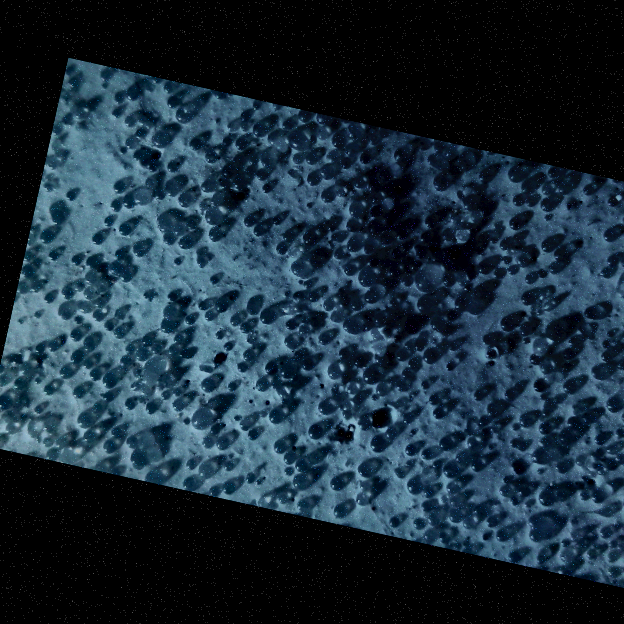GrassBeadSeg: (386, 36, 409, 64), (421, 492, 440, 524), (359, 234, 381, 258), (250, 53, 270, 79), (299, 224, 318, 251), (36, 280, 55, 307), (119, 243, 138, 269), (514, 83, 533, 108), (277, 373, 295, 399), (302, 304, 322, 327), (470, 581, 487, 608), (451, 183, 470, 207), (184, 15, 203, 39), (14, 479, 32, 504), (309, 381, 328, 404), (226, 323, 244, 347), (226, 271, 244, 295), (256, 476, 273, 501), (354, 467, 371, 492), (106, 440, 124, 463), (129, 270, 147, 293), (93, 501, 110, 525), (408, 575, 425, 599), (319, 176, 335, 201), (93, 324, 111, 346), (163, 248, 181, 270), (263, 521, 280, 544), (185, 491, 202, 514), (527, 540, 544, 563), (51, 335, 68, 358), (3, 441, 20, 464), (359, 185, 377, 206), (357, 77, 374, 99), (316, 479, 332, 502), (324, 125, 340, 148), (384, 317, 399, 341), (311, 439, 328, 460), (422, 445, 439, 466), (293, 254, 310, 275), (345, 515, 361, 537), (452, 604, 470, 623), (352, 116, 369, 136), (550, 24, 566, 45), (369, 93, 385, 114), (319, 562, 335, 583), (125, 465, 141, 486), (356, 352, 372, 373), (88, 403, 104, 424), (278, 593, 293, 615), (472, 367, 486, 390), (473, 343, 487, 366), (482, 167, 496, 190), (521, 178, 535, 201), (419, 603, 435, 623), (447, 213, 463, 233), (384, 596, 400, 616), (568, 384, 584, 404), (98, 543, 114, 563), (500, 573, 515, 594), (65, 584, 79, 606), (21, 354, 37, 373), (290, 358, 306, 377), (50, 198, 66, 217), (151, 205, 167, 224), (128, 391, 144, 410), (294, 28, 310, 47), (280, 285, 296, 304), (123, 333, 138, 353), (287, 553, 302, 573), (375, 427, 390, 447), (398, 530, 413, 550), (143, 116, 158, 136), (430, 34, 443, 57), (253, 335, 270, 352), (53, 117, 66, 139), (90, 76, 103, 98), (215, 29, 228, 51), (163, 477, 178, 496), (196, 454, 211, 473), (177, 94, 192, 113), (197, 172, 212, 191), (322, 538, 337, 557), (178, 470, 193, 489), (490, 421, 504, 441), (606, 542, 620, 562), (218, 531, 231, 552), (324, 154, 340, 171), (130, 432, 146, 449), (209, 411, 224, 429), (555, 476, 570, 494), (313, 599, 328, 617), (24, 217, 39, 235), (497, 159, 512, 177), (192, 574, 207, 592), (594, 73, 609, 91), (160, 388, 175, 406), (484, 81, 498, 100), (112, 604, 126, 623), (447, 487, 461, 506), (97, 566, 111, 585), (370, 399, 384, 418), (481, 560, 495, 579), (306, 148, 320, 167), (15, 2, 29, 21), (175, 31, 187, 53), (154, 52, 166, 74), (436, 126, 449, 146), (515, 474, 528, 494), (132, 508, 147, 525), (127, 577, 142, 594), (532, 194, 547, 211), (247, 382, 262, 399), (277, 209, 292, 226), (182, 130, 197, 147), (553, 369, 568, 386), (271, 350, 286, 367), (110, 397, 124, 415), (328, 336, 342, 354), (601, 274, 615, 292), (172, 445, 186, 463), (121, 305, 135, 323), (328, 84, 342, 102), (47, 485, 61, 503), (148, 252, 162, 270), (73, 367, 87, 385), (551, 323, 565, 341), (305, 274, 319, 292), (235, 21, 249, 39), (530, 297, 544, 315), (541, 425, 554, 444), (550, 448, 563, 467), (465, 455, 478, 474), (228, 203, 241, 222), (346, 276, 361, 292), (392, 0, 404, 20), (216, 392, 230, 409), (85, 379, 99, 396), (67, 89, 81, 106), (489, 236, 503, 253), (68, 268, 82, 285), (149, 359, 162, 377), (293, 403, 306, 421), (203, 536, 216, 554), (275, 452, 288, 470), (550, 347, 563, 365), (241, 345, 255, 361), (153, 545, 167, 561), (305, 64, 319, 80), (554, 415, 567, 432), (177, 370, 190, 387), (540, 503, 553, 520), (338, 382, 351, 399), (548, 70, 561, 87), (500, 125, 513, 142), (174, 564, 187, 581), (544, 174, 557, 191), (179, 282, 192, 299), (337, 530, 348, 550), (445, 64, 456, 84), (469, 94, 480, 114), (467, 140, 478, 160), (417, 43, 428, 63), (516, 396, 528, 414), (132, 298, 146, 313), (280, 183, 294, 198), (182, 521, 196, 536), (613, 360, 624, 379), (533, 235, 544, 254), (518, 155, 529, 174), (450, 111, 461, 130), (403, 344, 414, 363), (539, 378, 552, 394), (405, 21, 418, 37), (463, 406, 476, 422), (272, 258, 285, 274), (24, 572, 37, 588), (19, 596, 32, 612), (543, 102, 556, 118), (35, 537, 47, 554), (472, 502, 484, 519), (394, 388, 406, 405), (386, 213, 398, 230), (202, 558, 214, 575), (552, 606, 564, 623), (555, 261, 566, 279), (390, 68, 401, 86), (377, 63, 388, 81), (329, 44, 340, 62), (344, 36, 355, 54), (225, 78, 236, 96), (438, 339, 449, 357), (455, 352, 466, 370), (475, 236, 486, 254), (414, 336, 425, 354), (358, 397, 369, 415), (267, 393, 278, 411), (197, 209, 208, 227), (213, 235, 224, 253), (135, 146, 146, 164), (321, 220, 332, 238), (413, 537, 426, 552), (107, 419, 120, 434), (382, 192, 395, 207), (301, 202, 314, 217), (374, 0, 387, 15), (168, 408, 180, 424), (461, 386, 473, 402), (539, 456, 551, 472), (444, 327, 456, 343), (607, 32, 619, 48), (410, 193, 422, 209), (613, 332, 623, 351), (166, 145, 176, 164), (493, 503, 504, 520), (562, 339, 573, 356), (571, 356, 584, 370), (503, 440, 516, 454), (266, 220, 278, 235), (514, 27, 526, 42), (39, 355, 51, 370), (307, 353, 319, 368), (71, 117, 83, 132), (247, 362, 259, 377), (531, 277, 543, 292), (24, 326, 34, 344), (1, 310, 11, 328), (264, 569, 274, 587), (360, 54, 370, 72), (358, 28, 368, 46), (225, 128, 235, 146), (257, 119, 267, 137), (401, 314, 411, 332), (430, 321, 440, 339), (515, 263, 525, 281), (250, 457, 260, 475), (133, 126, 143, 144), (247, 251, 257, 269), (530, 470, 541, 486), (237, 430, 248, 446), (545, 204, 555, 221), (77, 293, 87, 310), (106, 276, 116, 293), (60, 396, 70, 413), (73, 435, 83, 452), (119, 501, 129, 518), (1, 504, 11, 521), (141, 559, 151, 576), (178, 540, 188, 557), (195, 601, 205, 618), (180, 599, 190, 616), (207, 587, 217, 604), (214, 478, 224, 495), (43, 576, 55, 590), (499, 553, 511, 567), (472, 207, 484, 221), (425, 575, 436, 590), (574, 441, 585, 456), (398, 608, 409, 623), (614, 108, 624, 124), (230, 478, 240, 494), (592, 303, 603, 317), (391, 566, 402, 580), (563, 63, 574, 77), (144, 164, 155, 178), (602, 358, 613, 372), (564, 39, 575, 53), (520, 133, 531, 147), (171, 55, 180, 72), (163, 570, 172, 587), (230, 592, 239, 609), (183, 58, 192, 75), (160, 32, 169, 49), (144, 23, 153, 40), (156, 173, 165, 189), (588, 371, 599, 384), (173, 168, 184, 181), (480, 411, 491, 424), (78, 53, 89, 66), (73, 12, 84, 25), (491, 476, 502, 489), (63, 489, 73, 503), (463, 478, 473, 492), (458, 69, 468, 83), (384, 500, 394, 514), (85, 121, 95, 135), (504, 421, 514, 435), (536, 121, 546, 135), (72, 65, 82, 79), (452, 470, 462, 484), (56, 28, 66, 42), (33, 111, 43, 125), (370, 575, 379, 590), (259, 146, 268, 161), (280, 150, 289, 165), (309, 184, 318, 199), (310, 126, 319, 141), (294, 83, 303, 98), (334, 203, 343, 218), (353, 222, 362, 237), (323, 283, 332, 298), (589, 206, 599, 219), (230, 375, 240, 388), (71, 233, 81, 246), (139, 408, 149, 421), (557, 302, 567, 315), (529, 392, 538, 406), (597, 583, 606, 597), (457, 44, 466, 58), (447, 24, 456, 38), (523, 7, 532, 21), (505, 48, 514, 62), (347, 61, 356, 75), (374, 26, 383, 40), (326, 18, 335, 32), (267, 6, 276, 20), (255, 11, 264, 25), (270, 27, 279, 41), (423, 184, 432, 198), (341, 313, 350, 327), (334, 285, 343, 299), (253, 218, 262, 232), (582, 9, 591, 23), (412, 128, 422, 140), (571, 303, 581, 315), (125, 523, 135, 535), (440, 510, 448, 525), (352, 332, 360, 347), (364, 327, 372, 342), (442, 285, 451, 298), (457, 264, 466, 277), (74, 251, 83, 264), (265, 550, 274, 563), (523, 521, 532, 534), (516, 502, 525, 515), (615, 515, 624, 528), (523, 313, 532, 326), (499, 221, 508, 234), (475, 0, 484, 13), (420, 109, 429, 122), (317, 86, 326, 99), (405, 443, 414, 456), (98, 29, 106, 43), (14, 222, 22, 236), (105, 259, 113, 273), (0, 406, 8, 420), (14, 395, 22, 409), (32, 390, 40, 404), (92, 455, 100, 469), (337, 553, 345, 567), (377, 510, 385, 524), (412, 514, 420, 528), (597, 488, 605, 502), (571, 511, 579, 525), (599, 513, 607, 527), (158, 6, 166, 20), (427, 367, 435, 381), (179, 305, 187, 319), (479, 270, 488, 282), (542, 361, 551, 373), (467, 176, 476, 188), (616, 314, 624, 327), (97, 207, 105, 220), (42, 191, 50, 204), (9, 250, 17, 263), (107, 298, 115, 311), (45, 383, 53, 396), (49, 410, 57, 423), (336, 597, 344, 610), (565, 566, 573, 579), (527, 571, 535, 584), (562, 591, 570, 604), (549, 587, 557, 600), (550, 232, 558, 245), (485, 221, 493, 234), (540, 87, 548, 100), (452, 136, 460, 149), (346, 15, 354, 28), (135, 212, 143, 225), (478, 325, 486, 338), (417, 382, 425, 395), (400, 410, 408, 423), (214, 305, 222, 318), (509, 174, 517, 187), (420, 0, 430, 10), (138, 492, 147, 503), (141, 5, 148, 19), (123, 20, 130, 34), (91, 140, 98, 154), (40, 245, 47, 259), (18, 271, 25, 285), (14, 353, 21, 367), (577, 545, 585, 557), (7, 110, 15, 122), (12, 43, 20, 55), (51, 77, 59, 89), (410, 58, 418, 70), (419, 88, 427, 100), (49, 233, 56, 246), (57, 276, 64, 289), (1, 377, 8, 390), (187, 178, 194, 191), (5, 28, 13, 39), (432, 90, 440, 101), (254, 320, 262, 331), (59, 568, 66, 580), (9, 562, 16, 574), (598, 250, 605, 262), (183, 155, 190, 167), (314, 108, 321, 120), (345, 109, 352, 121), (362, 301, 369, 313), (296, 447, 303, 459), (244, 317, 251, 329), (21, 556, 28, 567), (11, 576, 18, 587), (348, 163, 355, 174), (343, 180, 350, 191), (358, 261, 365, 272), (362, 284, 369, 295), (353, 373, 360, 384), (149, 273, 157, 282), (73, 569, 79, 581), (161, 419, 167, 431), (116, 376, 122, 388), (362, 580, 369, 590), (66, 558, 72, 569), (30, 555, 36, 566), (92, 605, 98, 616), (243, 140, 249, 151), (399, 174, 405, 185), (213, 338, 219, 349), (168, 428, 174, 439), (192, 544, 198, 554), (205, 496, 211, 506), (230, 502, 236, 512), (239, 518, 245, 528), (275, 412, 281, 422), (233, 452, 240, 460), (584, 502, 590, 511), (608, 479, 614, 488), (589, 454, 595, 463), (494, 405, 500, 414), (597, 402, 603, 411), (435, 60, 441, 69), (461, 167, 467, 176), (438, 426, 444, 435), (457, 412, 463, 421), (396, 490, 401, 500), (541, 70, 546, 80), (537, 0, 542, 10), (497, 25, 502, 35), (369, 427, 374, 437), (360, 438, 365, 448), (607, 153, 612, 163), (616, 186, 621, 196), (615, 60, 620, 70), (611, 417, 617, 425), (441, 9, 447, 17), (224, 116, 230, 124), (373, 476, 378, 485), (356, 449, 361, 458), (560, 396, 565, 405), (553, 121, 558, 130), (534, 74, 539, 83), (583, 28, 588, 37), (541, 18, 546, 27), (504, 37, 509, 46), (353, 411, 358, 420), (614, 168, 619, 177), (614, 203, 619, 212), (611, 96, 616, 105), (19, 67, 24, 75), (72, 171, 77, 179), (64, 456, 69, 464), (56, 450, 61, 458), (70, 466, 75, 474), (111, 470, 116, 478), (116, 525, 121, 533), (448, 45, 453, 53), (284, 14, 289, 22), (224, 64, 229, 72), (240, 74, 245, 82), (200, 132, 205, 140), (200, 110, 205, 118), (221, 104, 226, 112), (155, 77, 160, 85), (144, 201, 149, 209), (143, 226, 148, 234), (214, 215, 219, 223), (220, 208, 225, 216), (183, 146, 188, 154), (211, 153, 216, 161), (249, 181, 254, 189), (264, 179, 269, 187), (266, 199, 271, 207), (373, 141, 378, 149), (327, 262, 332, 270), (503, 334, 508, 342), (231, 112, 236, 120), (240, 114, 245, 122), (19, 124, 23, 132), (148, 589, 152, 597), (575, 575, 580, 581), (487, 499, 492, 505), (91, 368, 96, 374), (51, 442, 55, 449), (43, 424, 47, 431), (583, 563, 587, 570), (367, 262, 371, 269), (296, 310, 300, 317), (290, 316, 294, 323), (268, 314, 272, 321), (161, 451, 165, 458), (93, 360, 97, 367), (395, 554, 399, 560), (579, 589, 583, 595), (598, 458, 602, 464), (565, 449, 569, 455), (485, 486, 489, 492), (486, 467, 490, 473), (287, 323, 291, 329), (274, 326, 278, 332), (280, 343, 284, 349), (234, 300, 238, 306), (124, 356, 128, 362), (123, 325, 127, 331), (178, 323, 182, 329), (499, 340, 502, 346), (454, 257, 457, 262), (300, 439, 303, 444), (574, 594, 577, 598), (398, 365, 401, 369), (242, 397, 244, 402), (573, 597, 575, 601), (398, 376, 400, 380), (401, 358, 403, 362), (420, 399, 422, 403), (306, 443, 308, 447), (301, 443, 303, 447), (245, 403, 247, 407)
